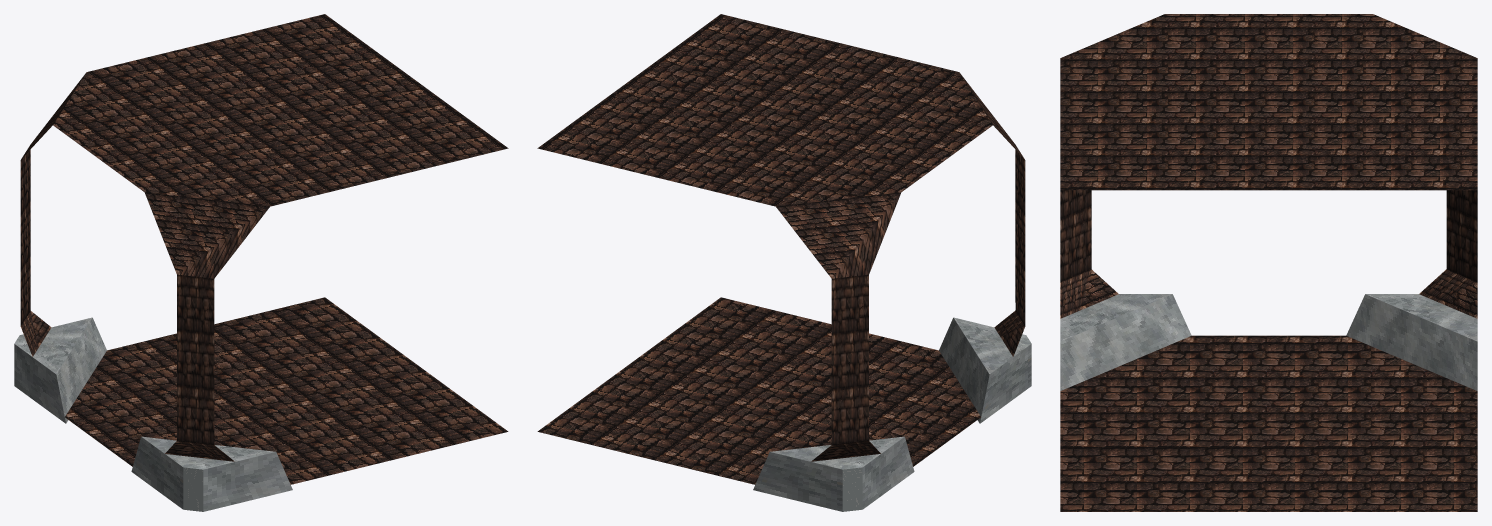
File: Pipe9.glb
The picture shows the model from 3 angles, left to right: view 1: azimuth 30°, elevation 25°; view 2: azimuth 150°, elevation 25°; view 3: azimuth 270°, elevation 25°; orthographic projection. The views are drawn at different scales.
Visible parts, largest first — view 1: Plane.004; view 2: Plane.004; view 3: Plane.004.
Part boxes in pixels (x1,y1,x2,y2): Plane.004: [14, 14, 508, 511]; Plane.004: [537, 14, 1031, 511]; Plane.004: [1060, 14, 1477, 511].
Size of the model in its own units: 4 by 3.47 by 4.
Materials: 2 (2 with a texture image).
